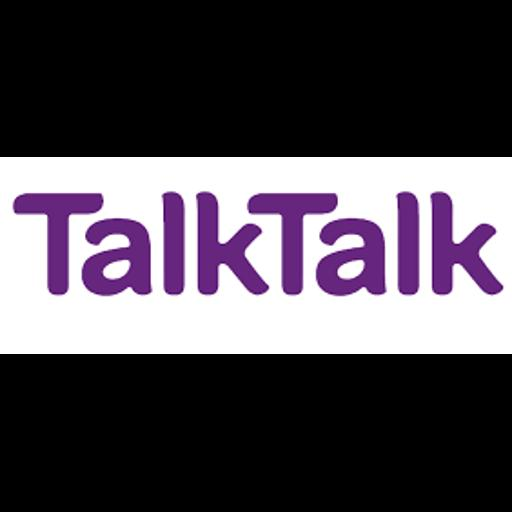TalkTalk Communications: (0, 157, 512, 354)
